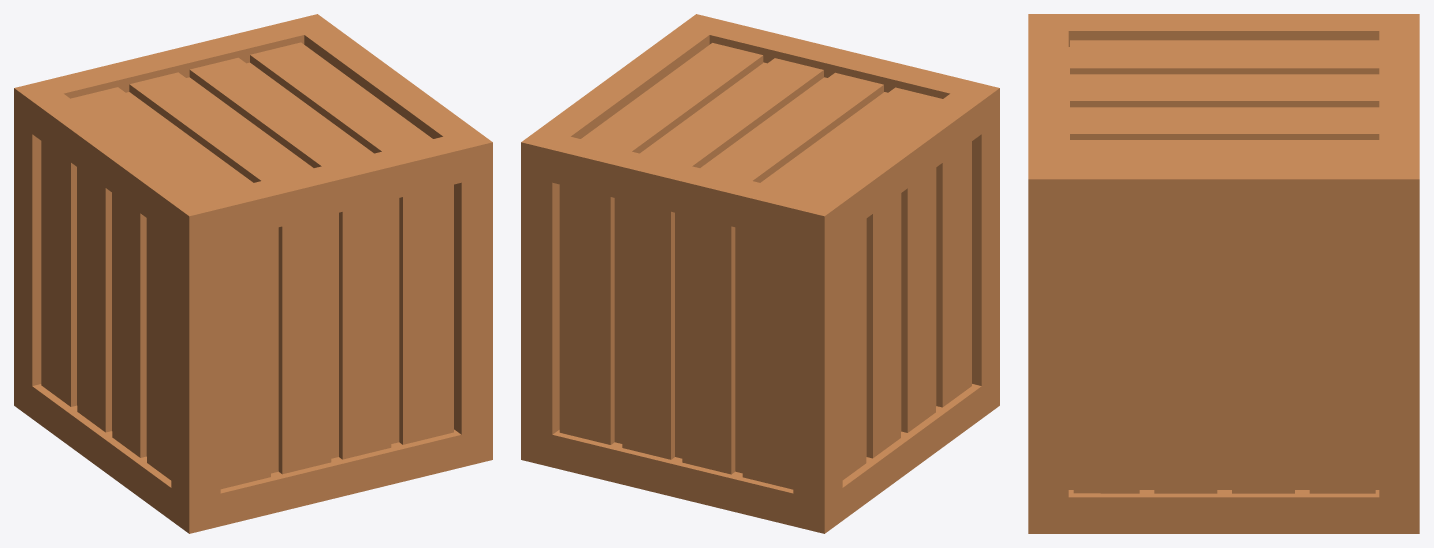
The model's file is ENV_Crate01_Placeholder02.fbx.
The picture shows the model from 3 angles, left to right: view 1: azimuth 30°, elevation 25°; view 2: azimuth 150°, elevation 25°; view 3: azimuth 270°, elevation 25°; orthographic projection. The views are drawn at different scales.
Visible parts, largest first — view 1: Cube.005; view 2: Cube.005; view 3: Cube.005.
Boxes of the visible parts, x1,y1,x2,y2 form: Cube.005: (14, 14, 492, 533); Cube.005: (521, 14, 999, 533); Cube.005: (1028, 14, 1419, 533).
Bounding box in the file's own units: 106 × 106 × 106.
